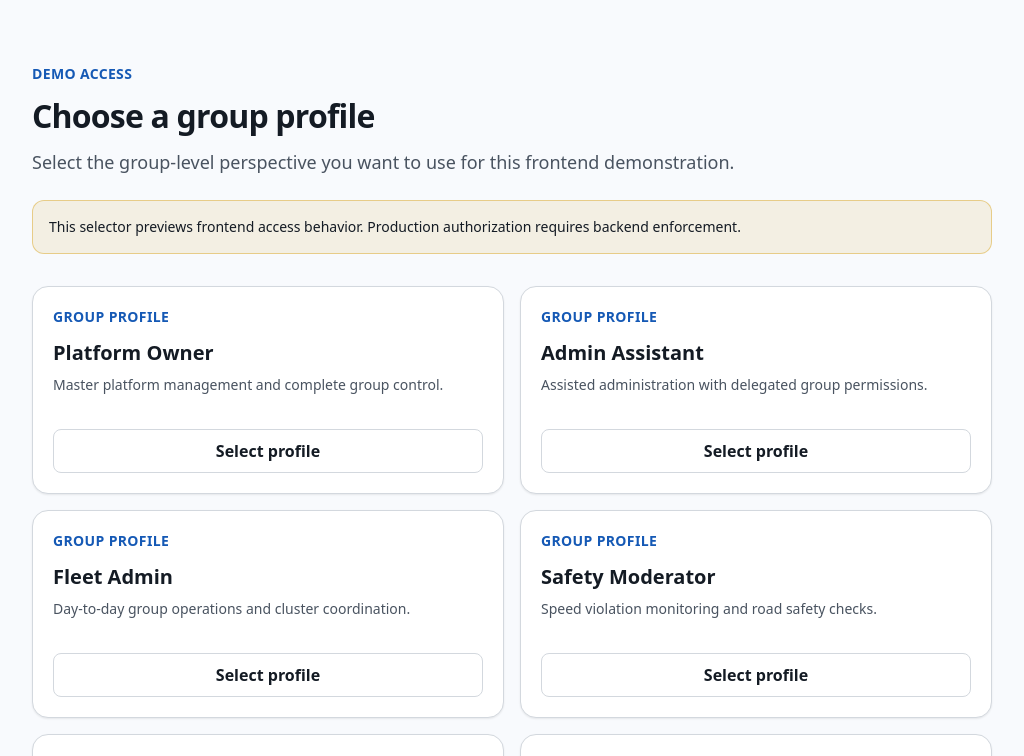
Test case: DemoAccessPage › selects and persists a profile while enabling Continue
What coordinates should you click on to do the following:
click the button with aria-label "Select Platform Owner profile"
I would click on:
 (268, 451)
Its box is [53,429,483,473].
(page scrolled)
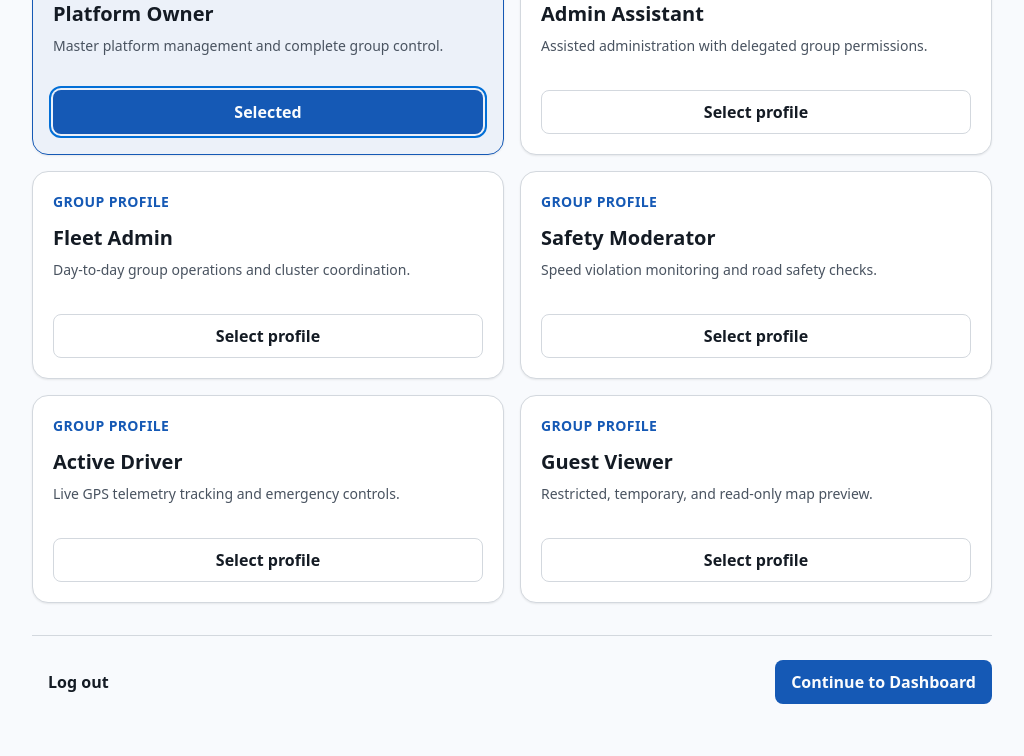
Now the button "Continue to Dashboard" is enabled, box [775,660,992,704]
